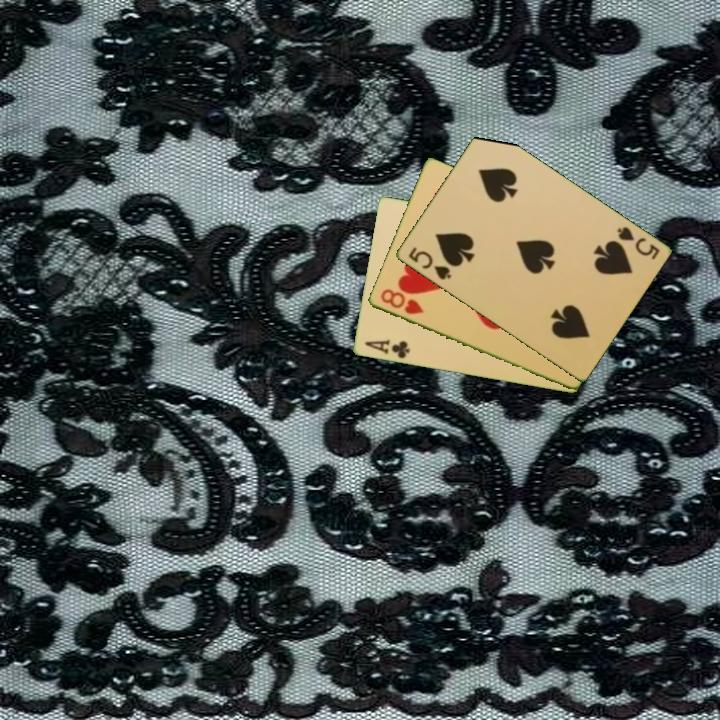5s: (404, 243, 454, 283), (613, 223, 662, 263)
8h: (376, 285, 426, 318)
Ac: (360, 336, 413, 362)
